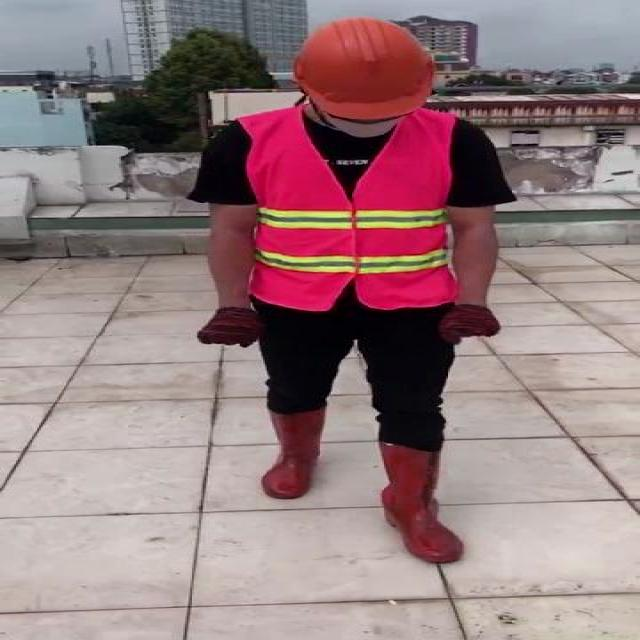boots: (364, 445, 462, 563), (258, 409, 324, 499)
hand_glove: (194, 307, 265, 346), (442, 304, 500, 341)
head_helmet: (294, 17, 444, 119)
person: (191, 14, 509, 566)
vest: (242, 110, 458, 309)
